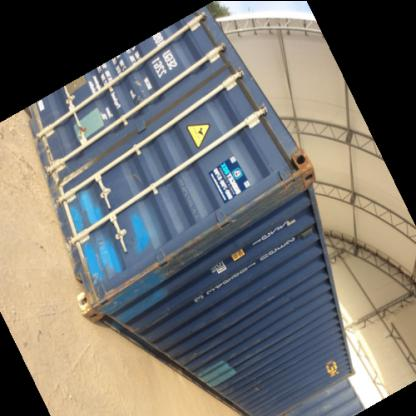Damage: (151, 220, 228, 279), (83, 272, 145, 317), (271, 152, 317, 204), (60, 158, 98, 199)
